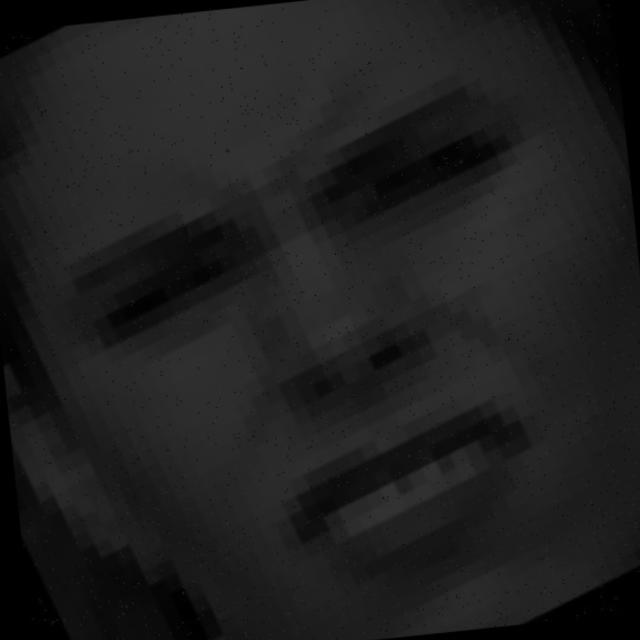Disgust: (39, 53, 640, 585)
